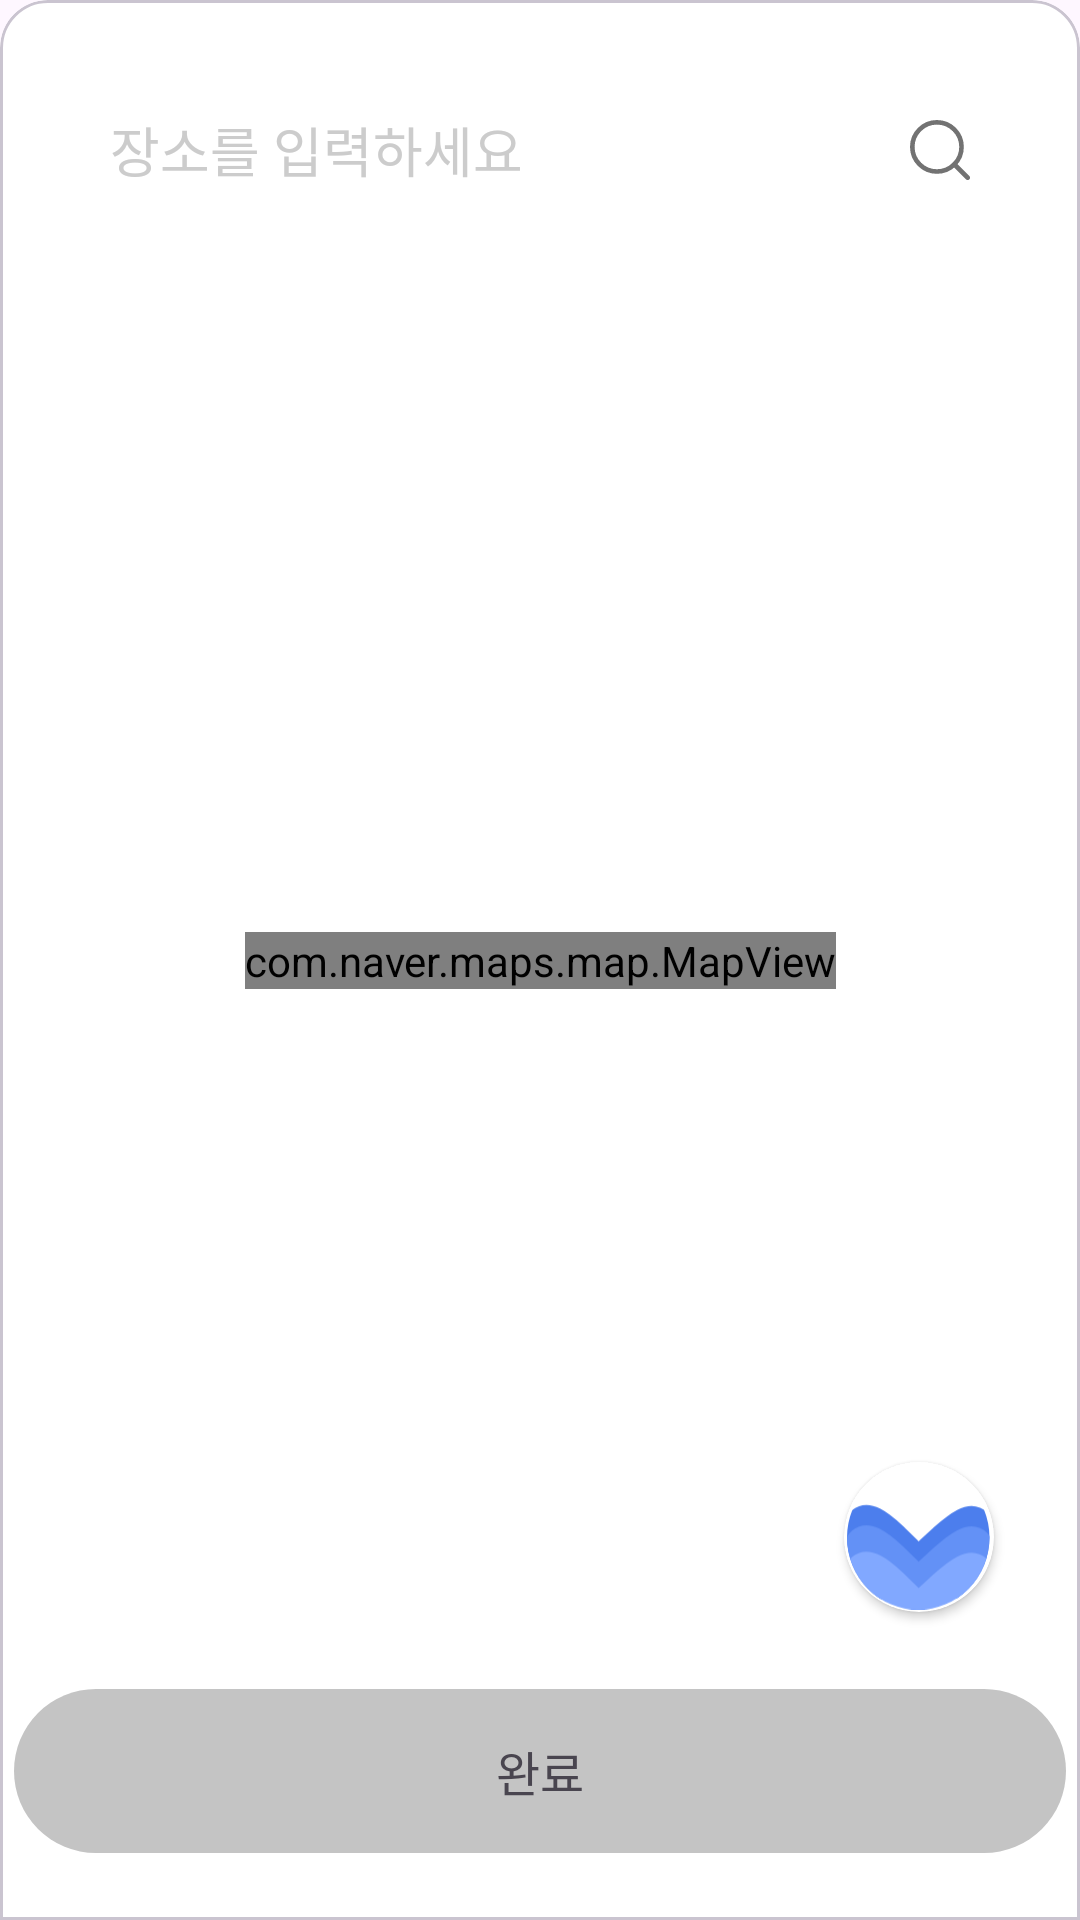

Where icons sit on this 1080px×1920px app screen, as (x1, y1, x2, y2):
search: (910, 120, 970, 180)
